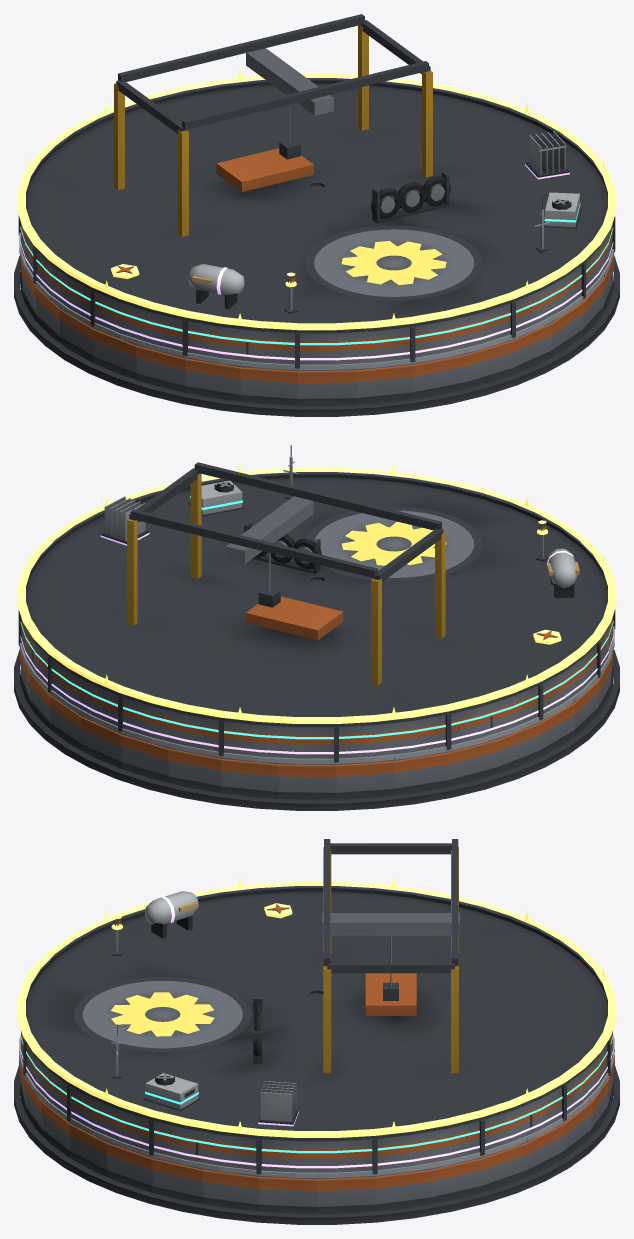
Rendered from parts_works_l_far.glb.
3 views of the same model, one above another, from view 1: azimuth 30°, elevation 25°; view 2: azimuth 150°, elevation 25°; view 3: azimuth 270°, elevation 25° (orthographic).
Visible parts, largest first — view 1: Roof, Base, L5, L4, L2, L3; view 2: Roof, Base, L5, L4, L2, L3; view 3: Roof, Base, L5, L4, L2, L3.
Boxes of the visible parts, box(x1,y1,x2,y2) form: Roof: box(18, 14, 615, 368); Base: box(14, 254, 619, 416); L5: box(17, 70, 616, 330); L4: box(20, 131, 613, 360); L2: box(19, 197, 614, 369); L3: box(20, 182, 613, 345); Roof: box(18, 462, 615, 762); Base: box(14, 648, 619, 810); L5: box(17, 464, 616, 723); L4: box(20, 496, 613, 754); L2: box(19, 445, 614, 763); L3: box(20, 480, 613, 739); Roof: box(21, 839, 612, 1174); Base: box(14, 1049, 619, 1224); L5: box(17, 878, 616, 1137); L4: box(20, 891, 613, 1168); L2: box(19, 1024, 614, 1177); L3: box(20, 989, 613, 1153).
Bounding box in the file's own units: 18.96 × 6.73 × 18.96.
